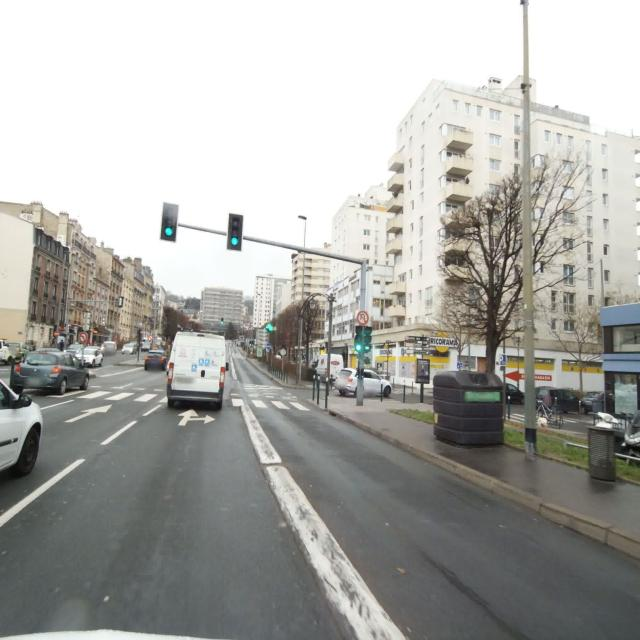car: (0, 358, 43, 526), (166, 328, 230, 410), (9, 348, 90, 394), (335, 366, 393, 397), (535, 387, 586, 414), (580, 390, 608, 414), (144, 348, 168, 371), (503, 382, 525, 404), (82, 346, 104, 366), (8, 341, 29, 361), (0, 337, 11, 365), (102, 340, 117, 353), (122, 342, 137, 354)
